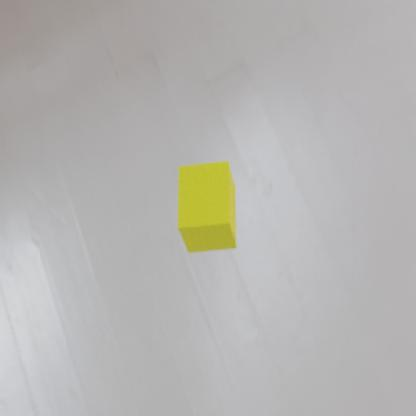cube: (176, 160, 236, 254)
